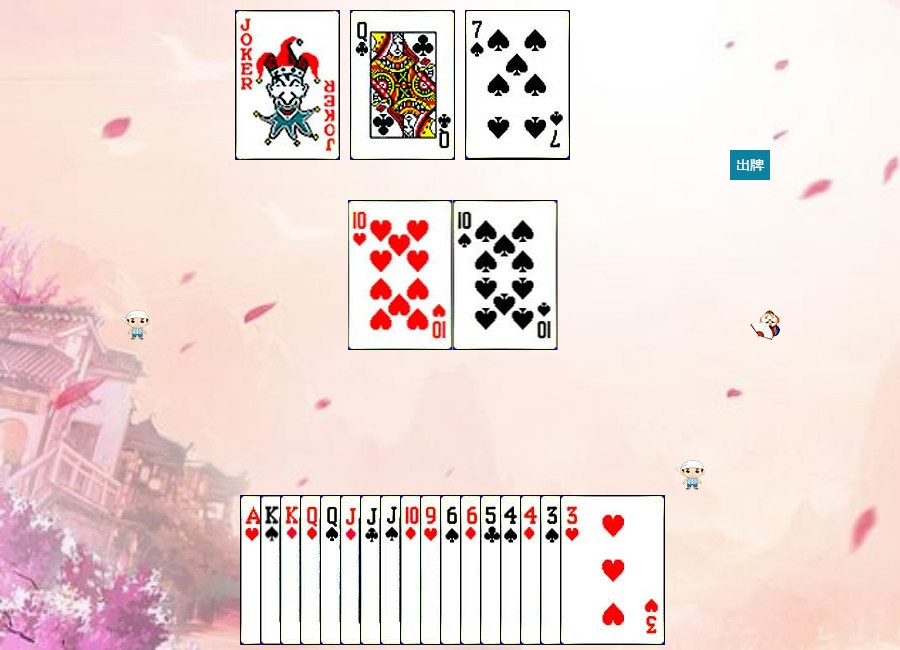10~1: (400, 495, 505, 645)
10~3: (348, 200, 453, 350)
10~4: (453, 200, 558, 350)
11~1: (340, 495, 445, 645)
11~2: (360, 495, 465, 645)
11~4: (380, 495, 485, 645)
12~1: (300, 495, 405, 645)
12~2: (350, 10, 455, 160)
12~4: (320, 495, 425, 645)
13~1: (280, 495, 385, 645)
13~4: (260, 495, 365, 645)
14~3: (240, 495, 345, 645)
18~4: (235, 10, 340, 160)
3~3: (560, 495, 665, 645)
3~4: (540, 495, 645, 645)
4~1: (520, 495, 625, 645)
4~4: (500, 495, 605, 645)
5~2: (480, 495, 585, 645)
6~1: (460, 495, 565, 645)
6~4: (440, 495, 545, 645)
7~4: (465, 10, 570, 160)
9~3: (420, 495, 525, 645)
